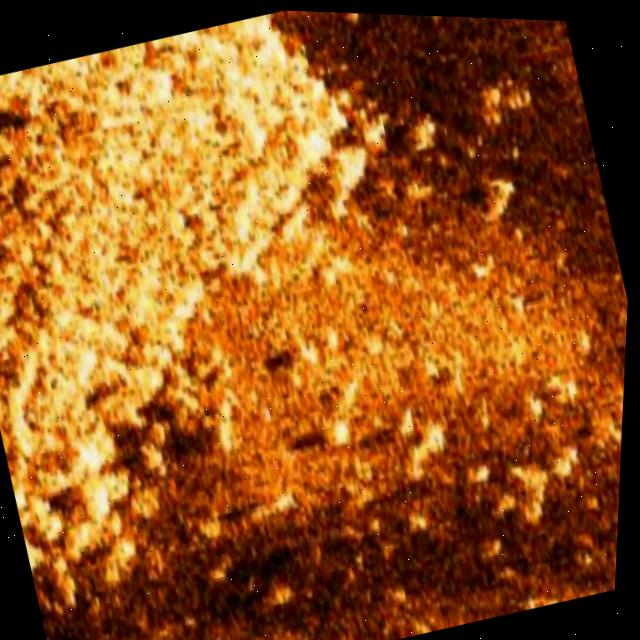bedrock group: (0, 0, 460, 581)
